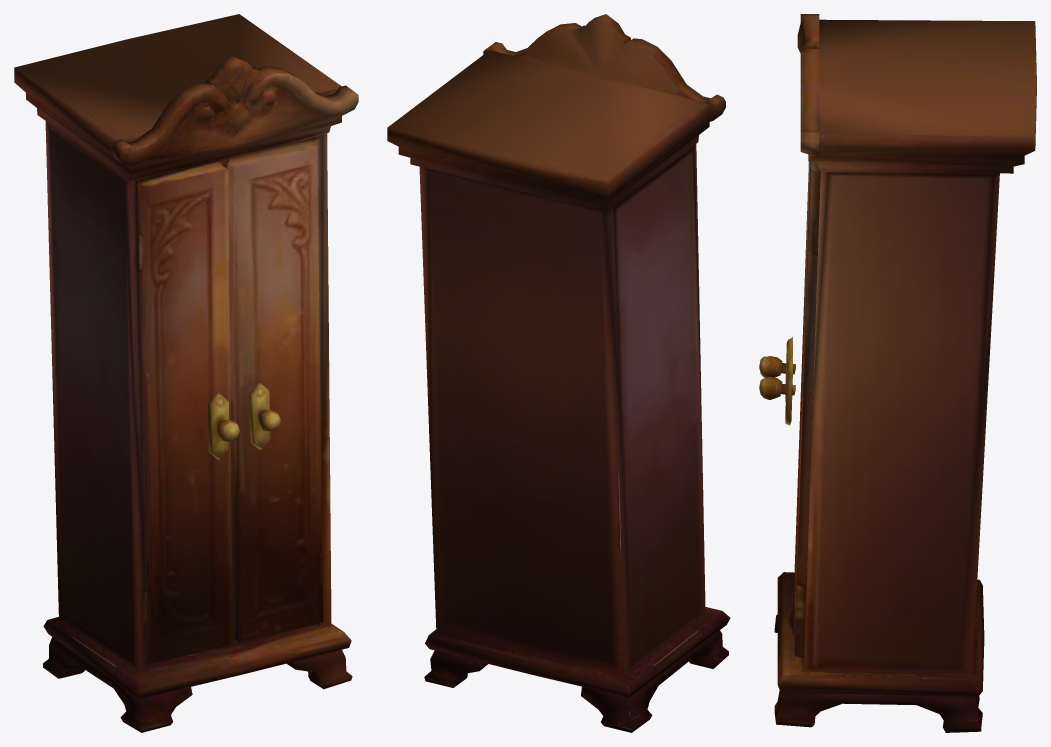
The model's file is wyn_furn_noble_wardrobe.glb.
The picture shows the model from 3 angles, left to right: view 1: azimuth 30°, elevation 25°; view 2: azimuth 150°, elevation 25°; view 3: azimuth 270°, elevation 25°; orthographic projection. The views are drawn at different scales.
Parts seen in each view (by area): view 1: tripo_node_11494d8c-9296-4774-b6ea-6039ffd05cb4; view 2: tripo_node_11494d8c-9296-4774-b6ea-6039ffd05cb4; view 3: tripo_node_11494d8c-9296-4774-b6ea-6039ffd05cb4.
Part boxes in pixels (<box>): tripo_node_11494d8c-9296-4774-b6ea-6039ffd05cb4: <box>14,14,358,732</box>; tripo_node_11494d8c-9296-4774-b6ea-6039ffd05cb4: <box>387,14,730,732</box>; tripo_node_11494d8c-9296-4774-b6ea-6039ffd05cb4: <box>759,14,1036,732</box>.
Size of the model in its own units: 0.8533 by 2.2 by 0.8302.
1 material, 1 textured.
